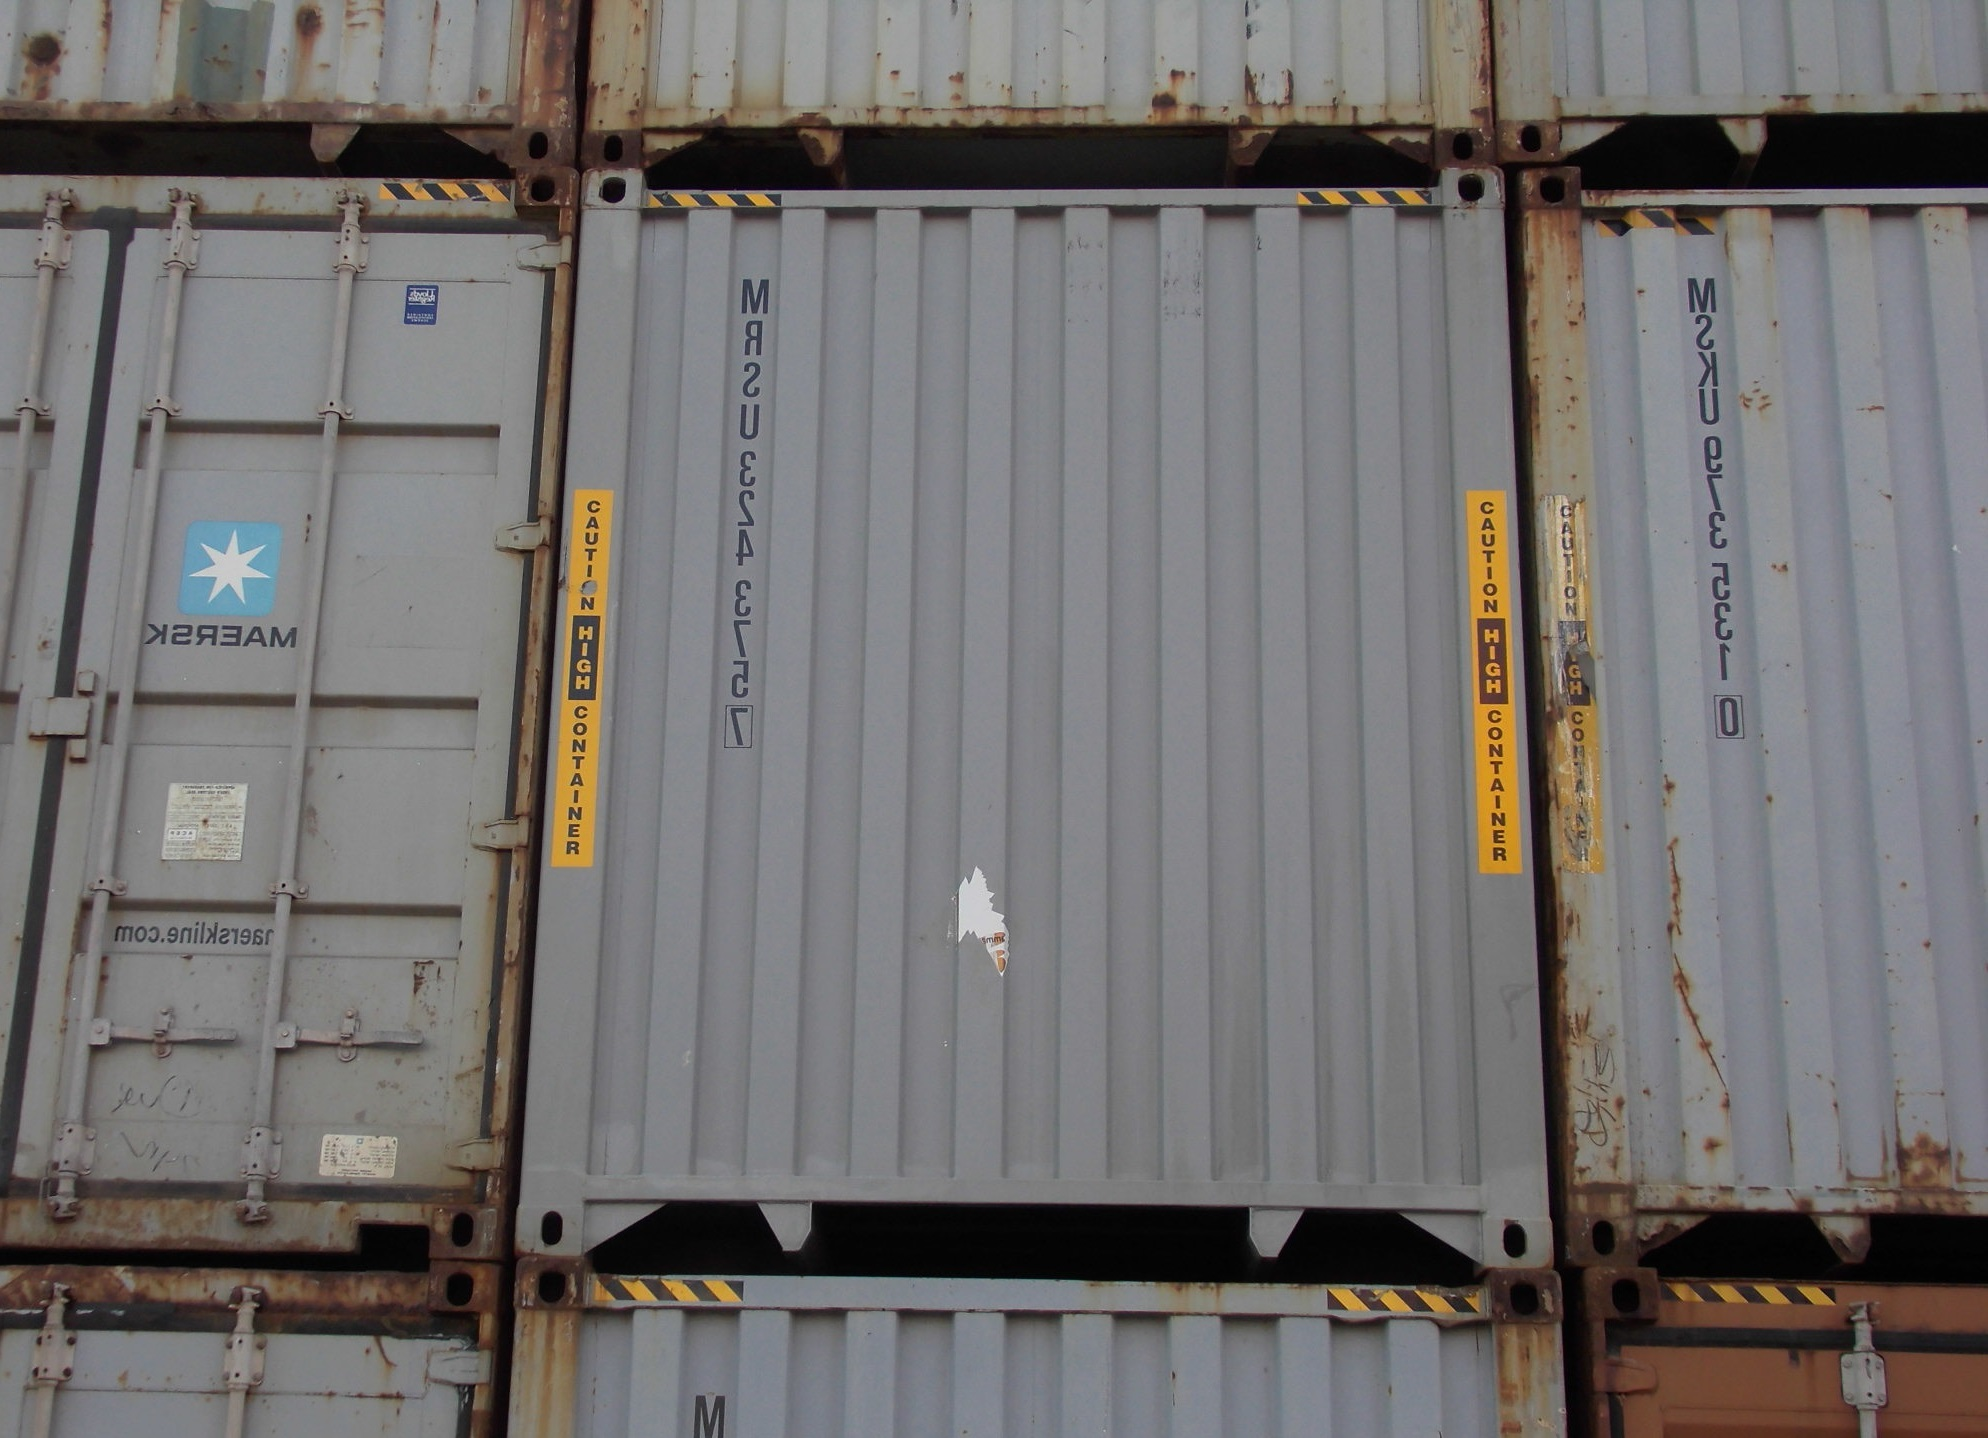container_door: (3, 174, 548, 1257)
container_no_door: (509, 174, 1510, 1267), (1567, 185, 1986, 1250)
